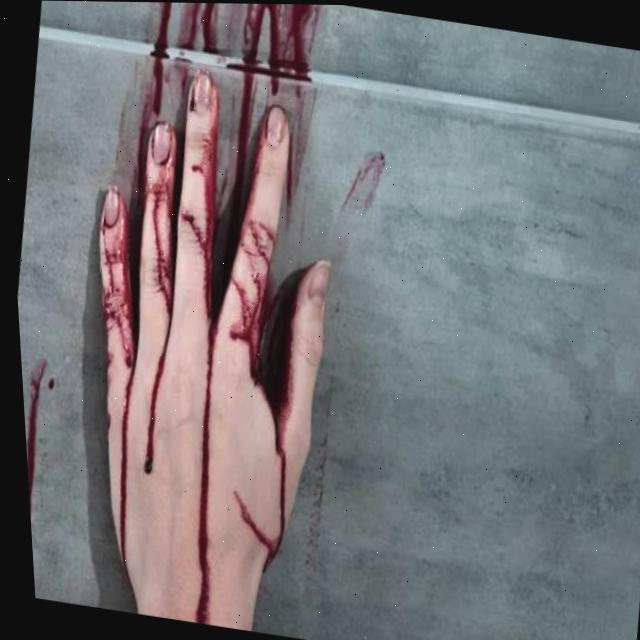knife: (268, 1, 319, 98), (231, 220, 275, 307), (23, 355, 49, 497), (196, 395, 212, 625), (240, 3, 262, 123), (180, 1, 221, 55), (151, 4, 175, 59), (150, 58, 165, 118), (143, 420, 154, 476)
